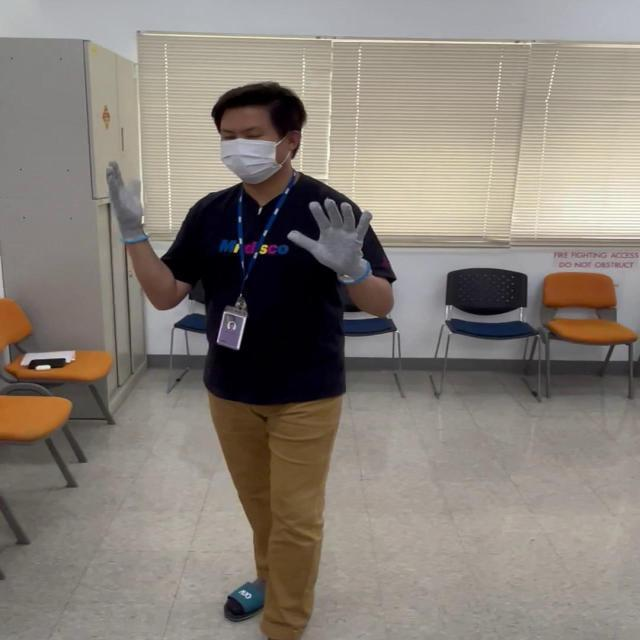gloved_hand: (286, 194, 383, 284), (110, 160, 156, 244)
